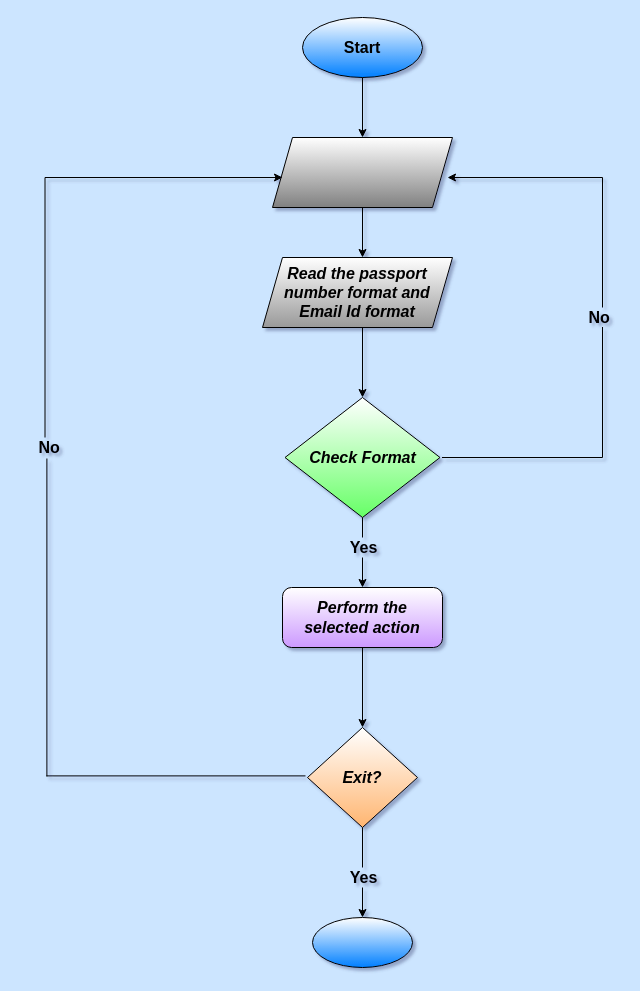
This 640x991 diagram has some shape labels left out. Here are the shapes that lost their labels. From the top down, the centre of each, then its label:
the point at 362,172: Display and ask choice
the point at 362,942: End
